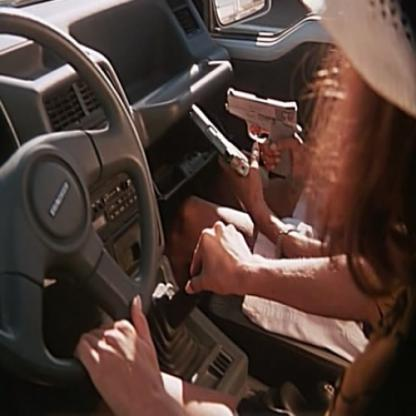Guns: (186, 80, 302, 185)
